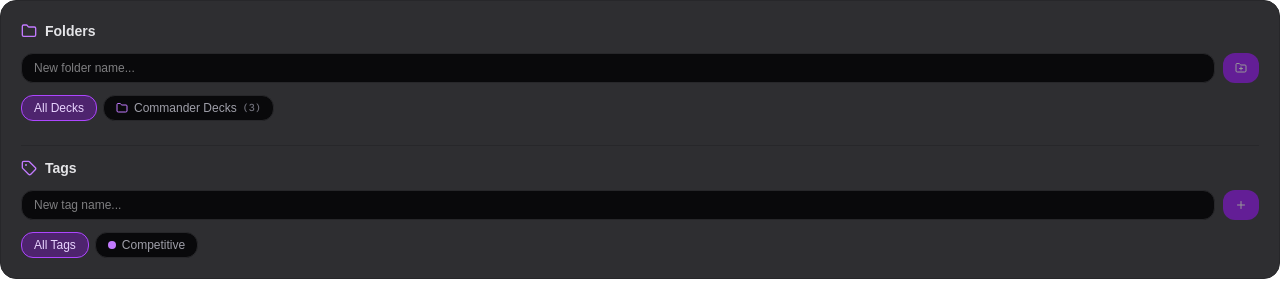
Test case: DeckFolderTagManager component › renders folders and tags and allows creating a folder
This screenshot has width=1280, height=296.
Check: the text "Commander Decks" is shown, box top-left (134, 100), bottom-right (237, 116)
Check: the text "Competitive" is shown, box top-left (122, 237), bottom-right (185, 253)
Type "Casual" into the field with placeholder "New folder name..." at {"x": 618, "y": 68}, box top-left (21, 53), bottom-right (1215, 83)
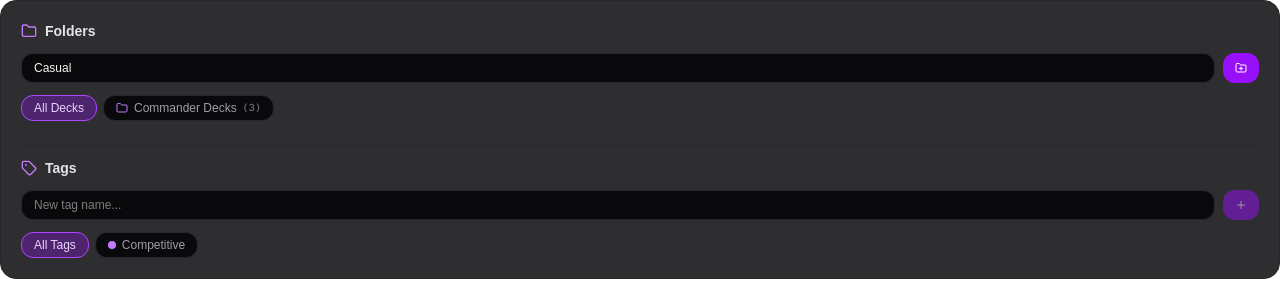
Click the button named "create folder" at {"x": 1241, "y": 68}, box top-left (1223, 53), bottom-right (1259, 83)
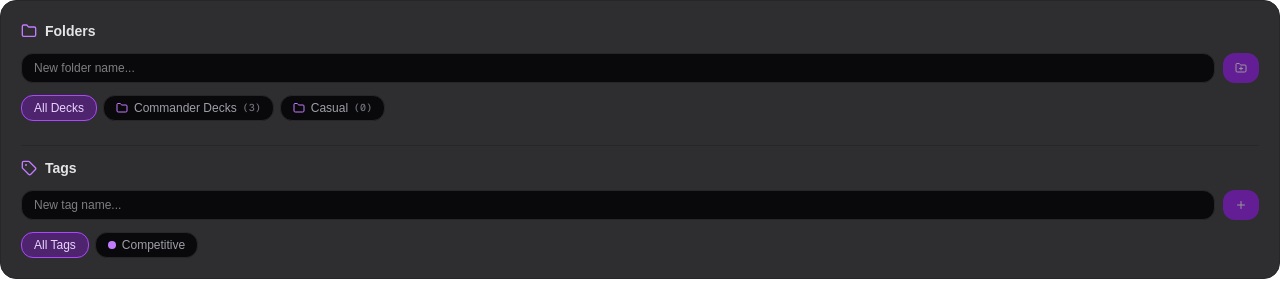
Check: the text "Casual" is shown, box top-left (311, 100), bottom-right (348, 116)
